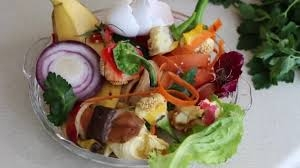kitchen_waste: (148, 103, 248, 168), (234, 1, 300, 90), (33, 41, 104, 101), (101, 37, 162, 91), (134, 90, 182, 144), (105, 2, 183, 33), (155, 64, 202, 107), (41, 71, 77, 126), (209, 49, 247, 100), (145, 23, 186, 59), (86, 105, 117, 152)
